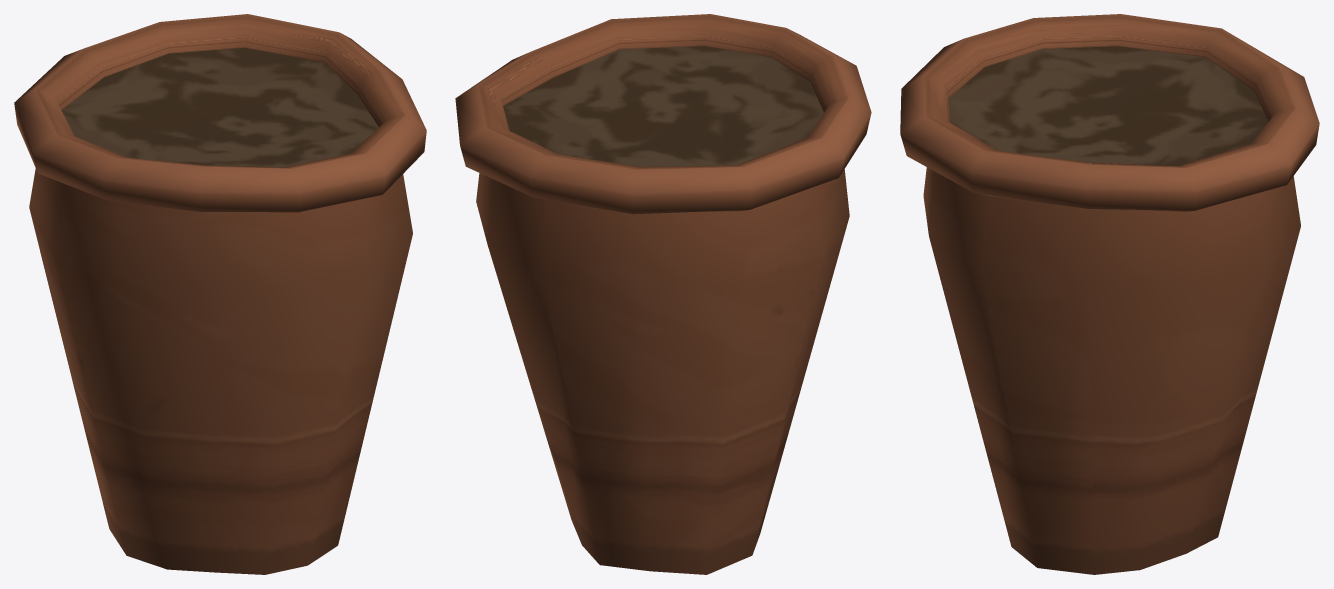
File: SM_PROP_plant_pot_city_12.fbx
3 views of the same model, side by side, from view 1: azimuth 30°, elevation 25°; view 2: azimuth 150°, elevation 25°; view 3: azimuth 270°, elevation 25° (orthographic).
Visible parts, largest first — view 1: SM_PROP_plant_pot_city_12; view 2: SM_PROP_plant_pot_city_12; view 3: SM_PROP_plant_pot_city_12.
Boxes of the visible parts, left/top/right/bottom form: SM_PROP_plant_pot_city_12: left=14, top=14, right=426, bottom=574; SM_PROP_plant_pot_city_12: left=455, top=14, right=871, bottom=574; SM_PROP_plant_pot_city_12: left=900, top=14, right=1319, bottom=574.
Bounding box in the file's own units: 58.16 × 69.97 × 59.69.
